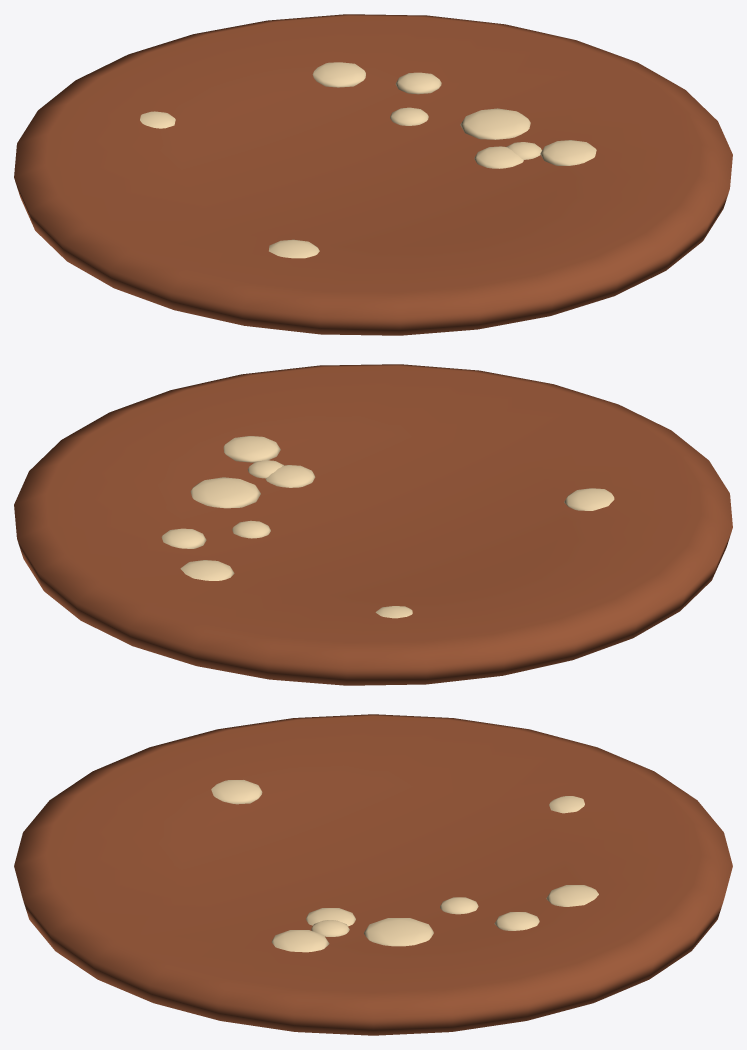
The model's file is EatsaPizzaPepperoni.obj.
3 views of the same model, one above another, from view 1: azimuth 30°, elevation 25°; view 2: azimuth 150°, elevation 25°; view 3: azimuth 270°, elevation 25° (orthographic).
Visible parts, largest first — view 1: Meat, Fat; view 2: Meat, Fat; view 3: Meat, Fat.
Part boxes in pixels (x1,y1,x2,y2): Meat: (14, 14, 732, 335); Fat: (140, 62, 596, 258); Meat: (14, 364, 732, 685); Fat: (161, 436, 614, 618); Meat: (14, 714, 732, 1035); Fat: (211, 780, 598, 952).
Size of the model in its own units: 2.24 by 0.17 by 2.24.
